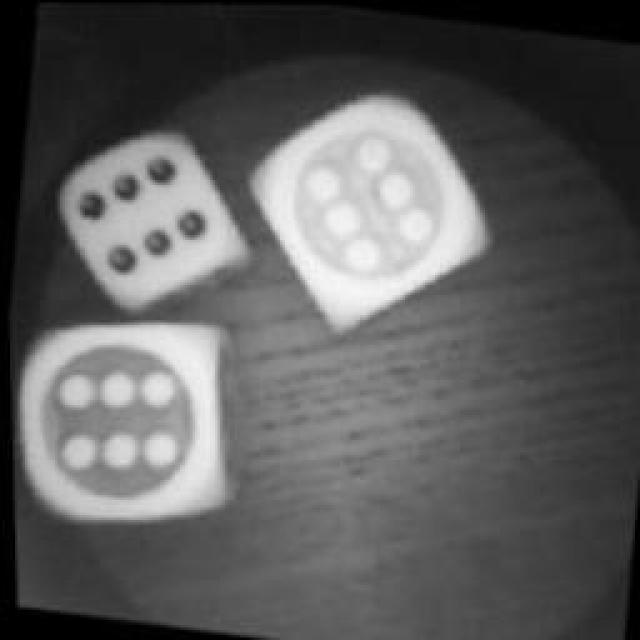dice_6: (228, 64, 512, 346), (9, 292, 249, 542), (39, 115, 249, 325)
